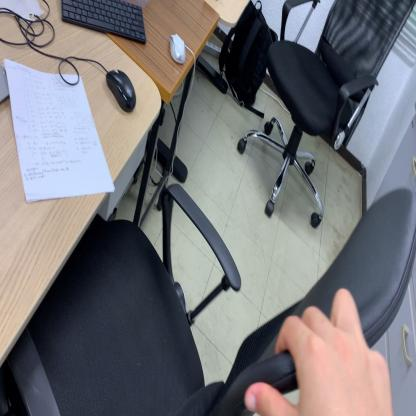chair: (6, 181, 416, 416), (237, 1, 416, 231)
